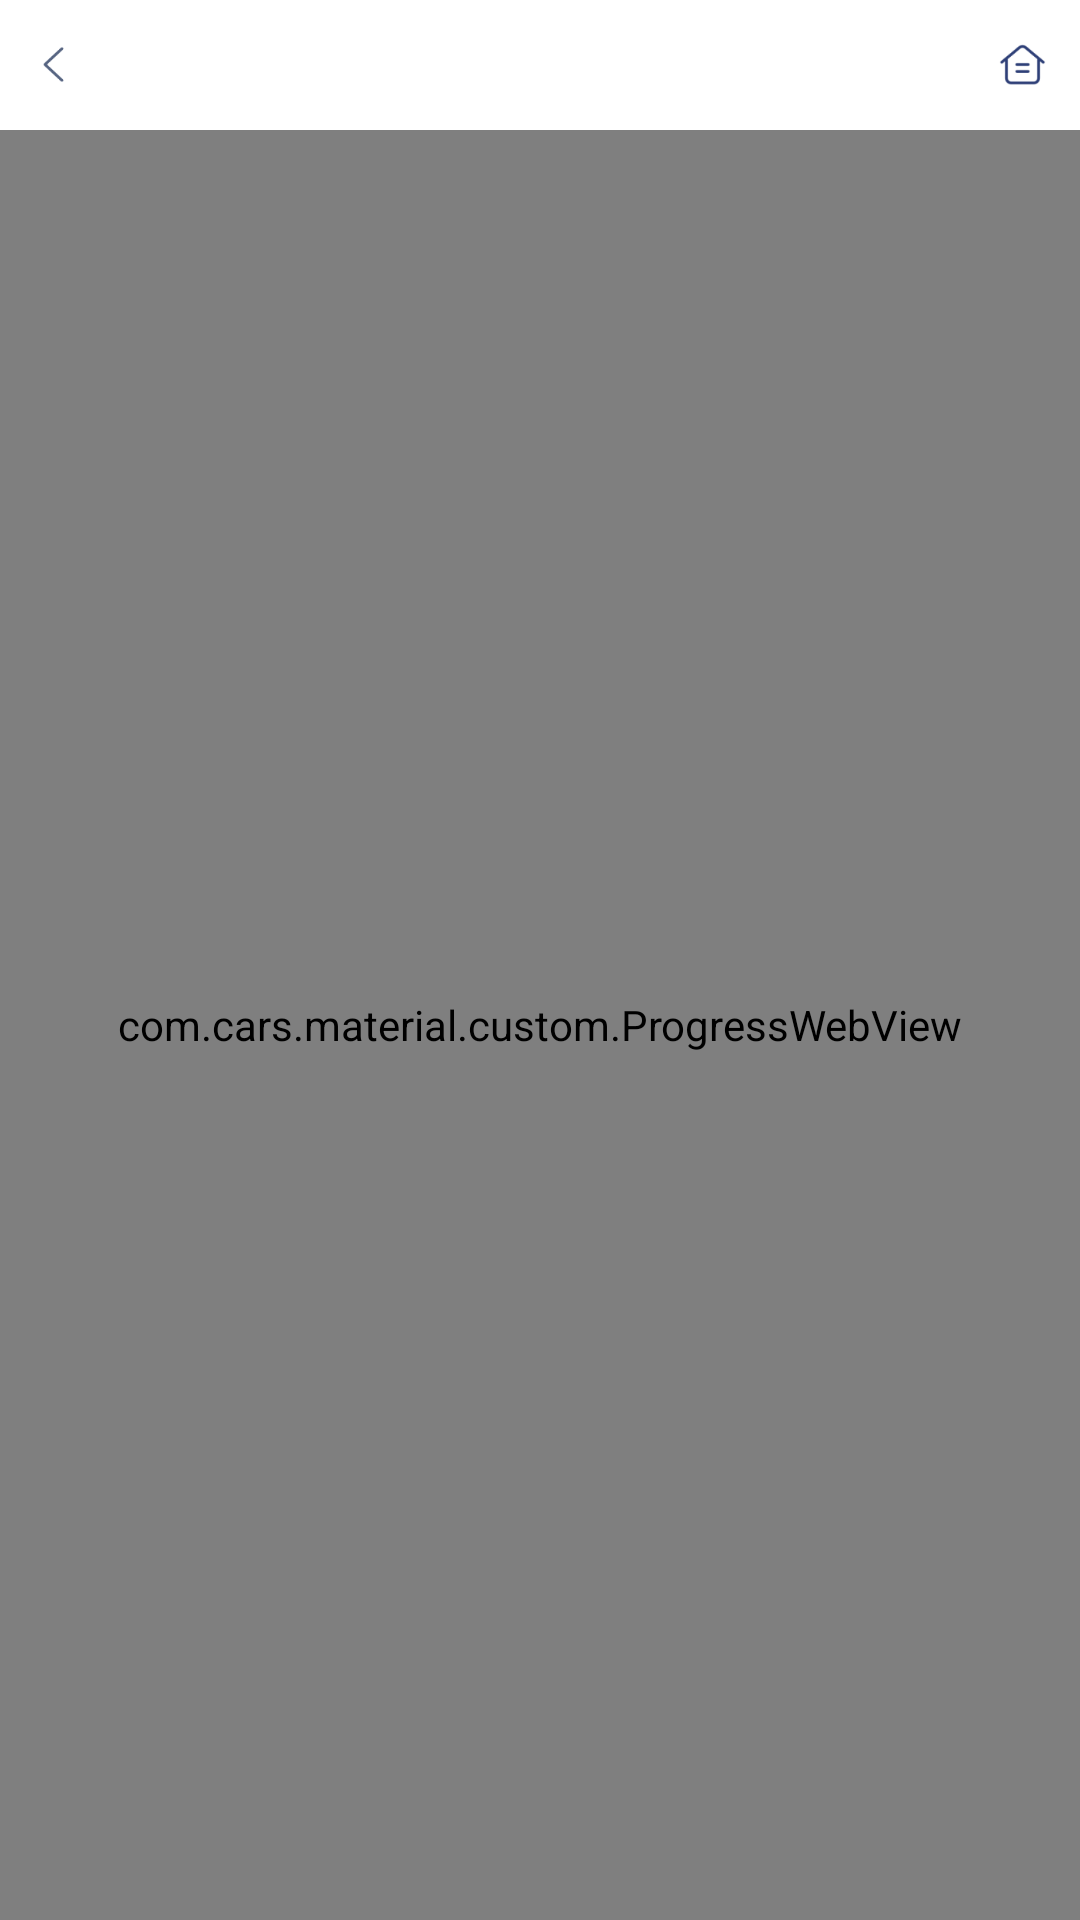

Where icons sit on this 1080 × 1920 app screen, as (x1=x1, y1=y1, x2=x2, y2=y2):
go back: (x1=43, y1=47, x2=64, y2=82)
go home: (x1=1000, y1=45, x2=1045, y2=85)
